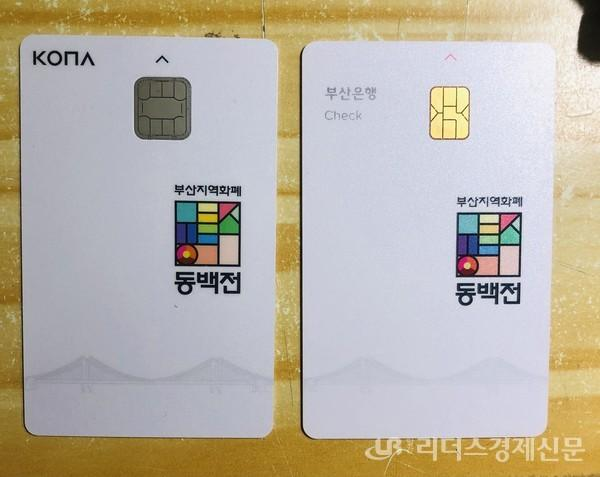Credit_card: (20, 35, 275, 436), (301, 42, 554, 438)
